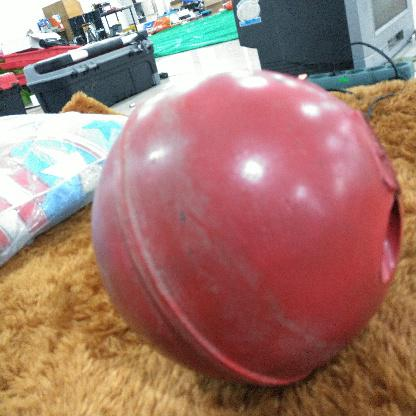red_buoy: (89, 65, 404, 391)
